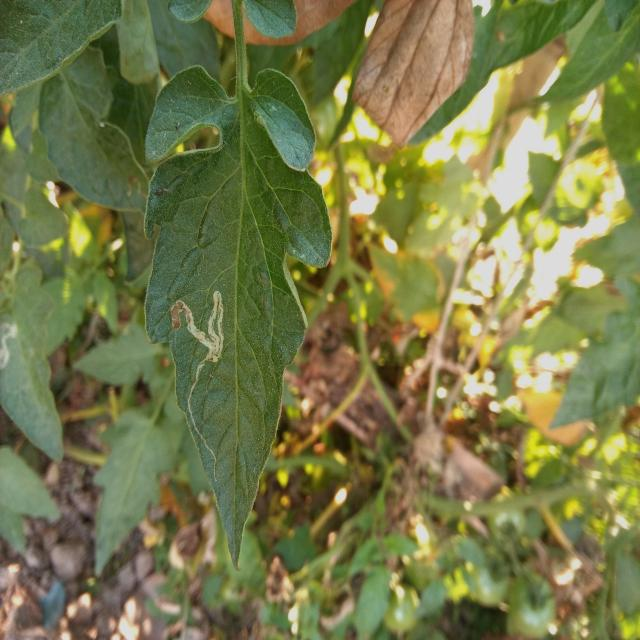Tuta absoluta: (167, 290, 246, 435)
